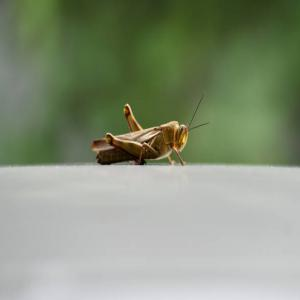locust: (89, 100, 226, 170)
